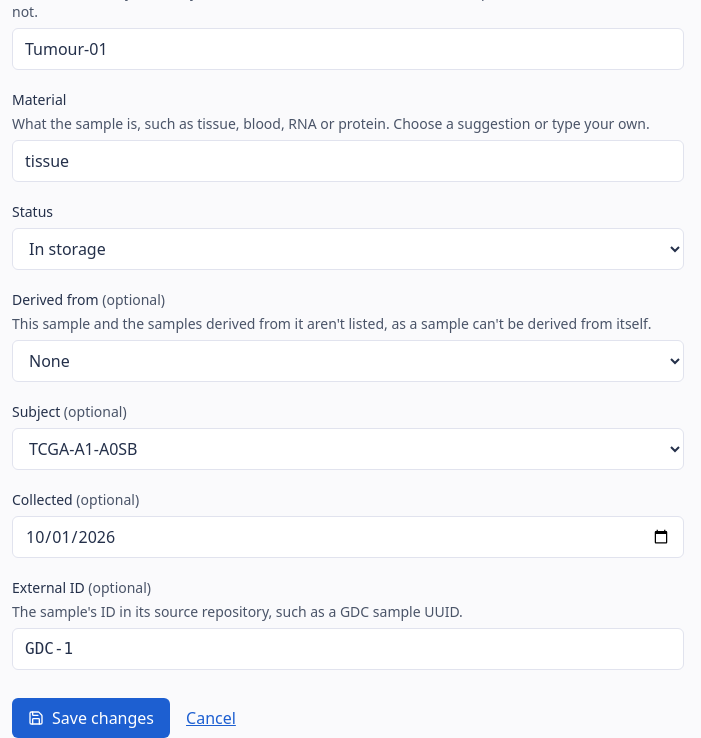
Test: EditSamplePage › shows the API's explanation when a change breaks a rule
The width and height of the screenshot is (701, 738).
(page scrolled)
Click the button "Save changes" at (91, 718), box [12,698,170,737]
(page scrolled)
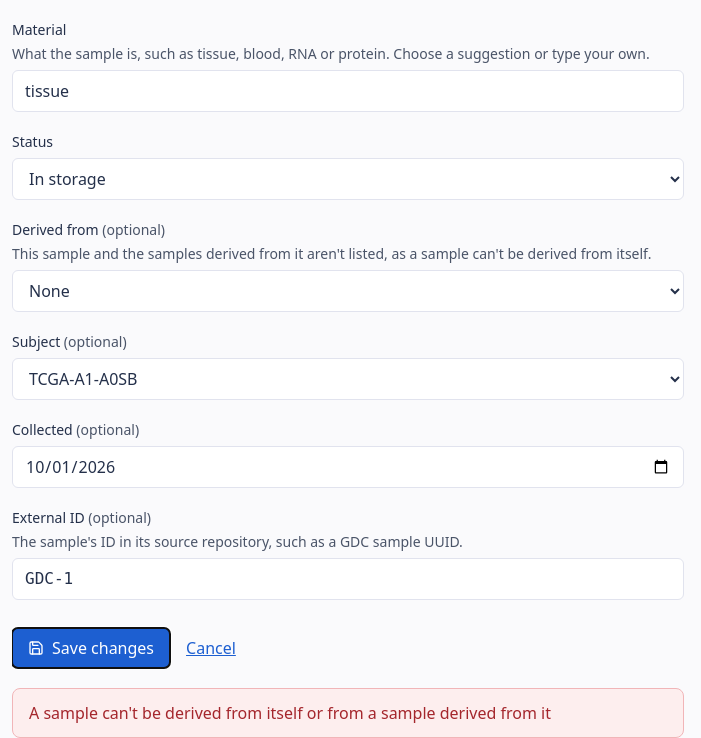
Now the message shows "can't be derived from itself", box [29,702,551,724]
